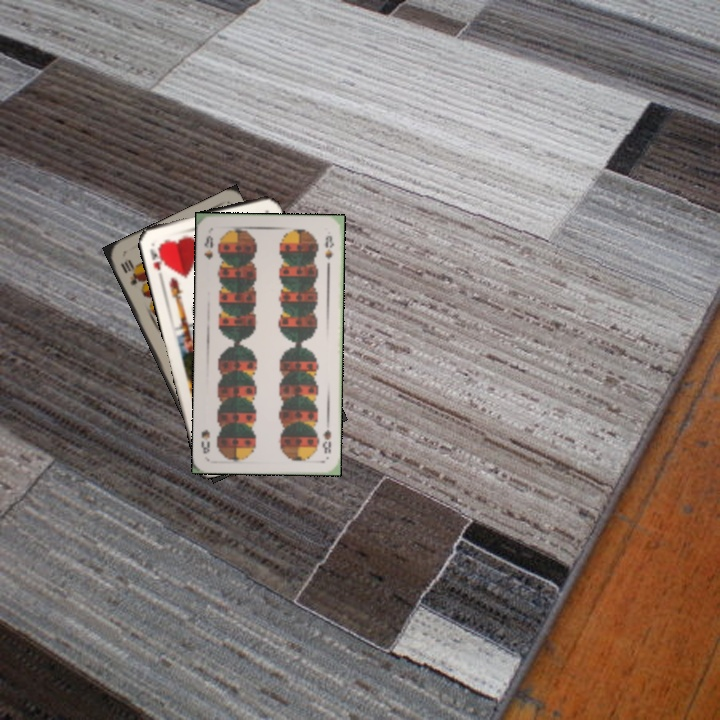E10: (117, 255, 146, 290)
HK: (146, 240, 168, 273)
S8: (318, 425, 334, 456), (200, 232, 215, 262)
